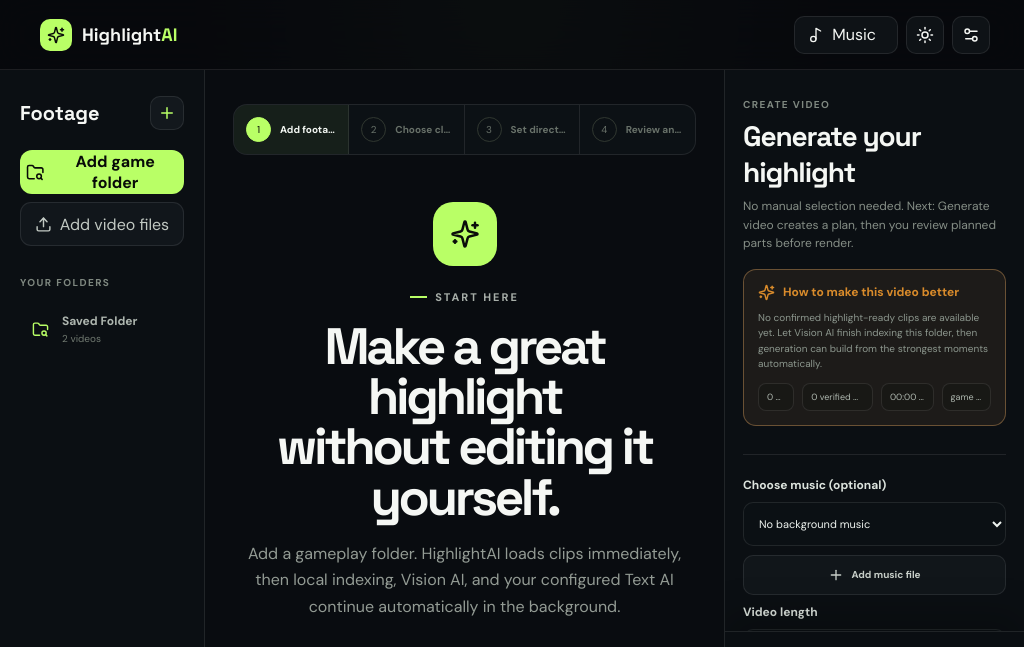
Test: path management › shows one truthful background service card for a paused index job
Click the button "Saved Folder 2 videos".
click(102, 329)  # box [20, 301, 184, 357]
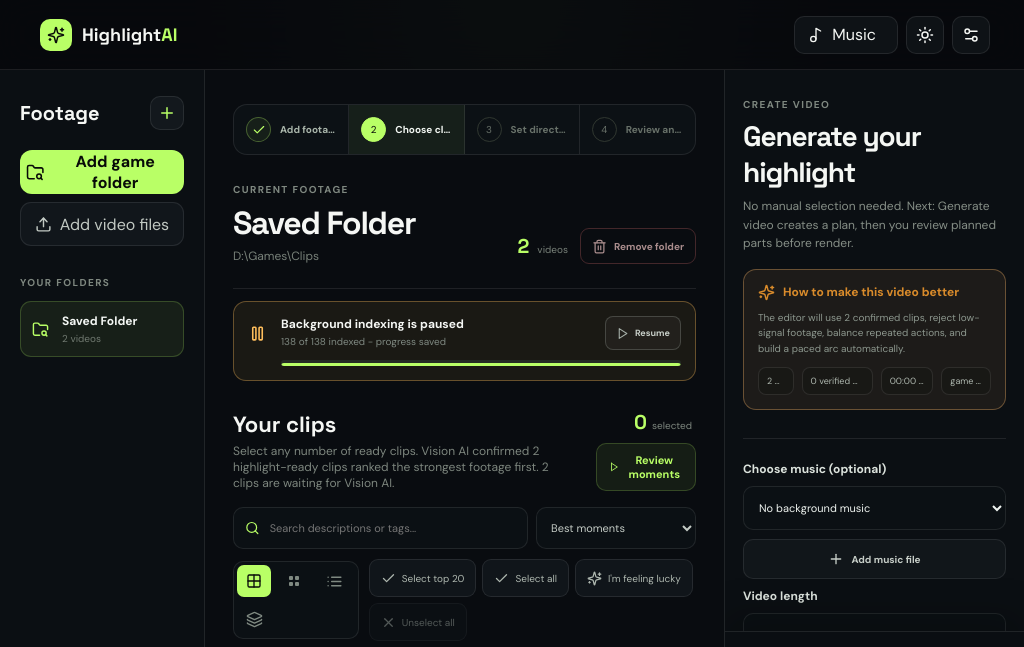
Expected: the text "Background indexing is paused" is shown, [281, 316, 464, 332]
Expected: the text "138 of 138 indexed - progress saved" is shown, [281, 335, 446, 348]
Expected: the button "Resume" is shown, [605, 316, 681, 350]
